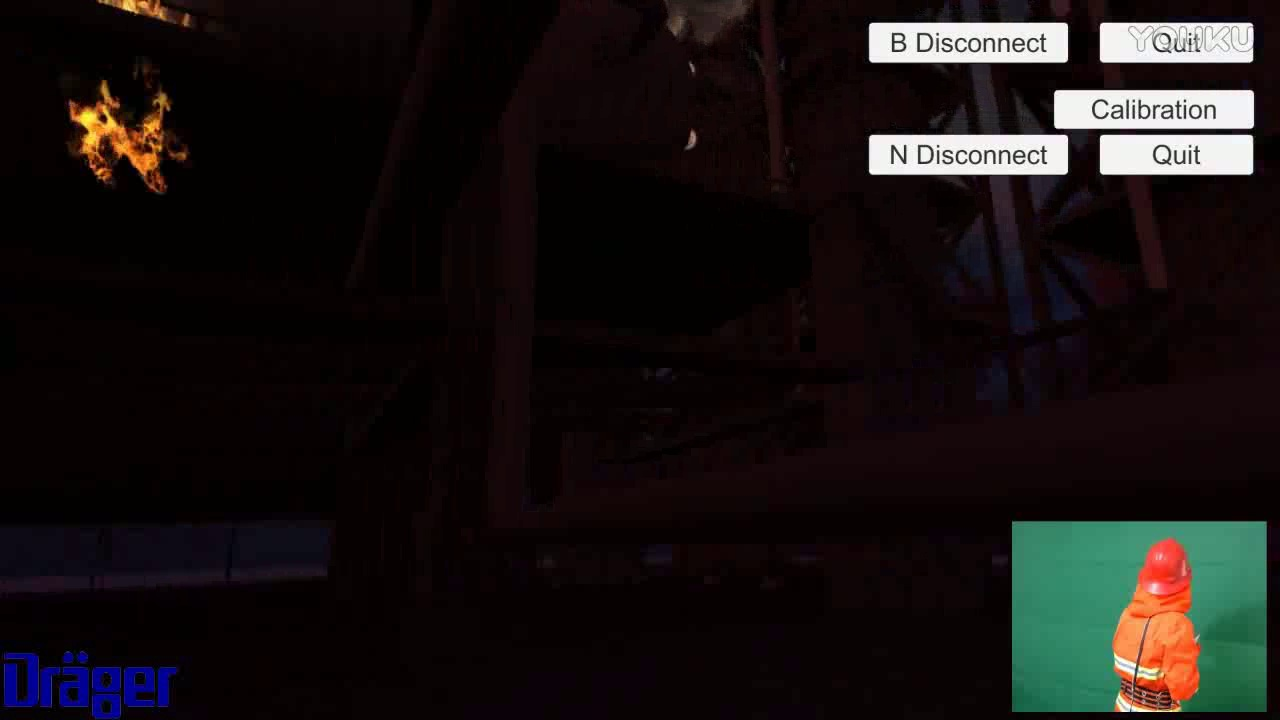fire: (59, 74, 191, 208)
